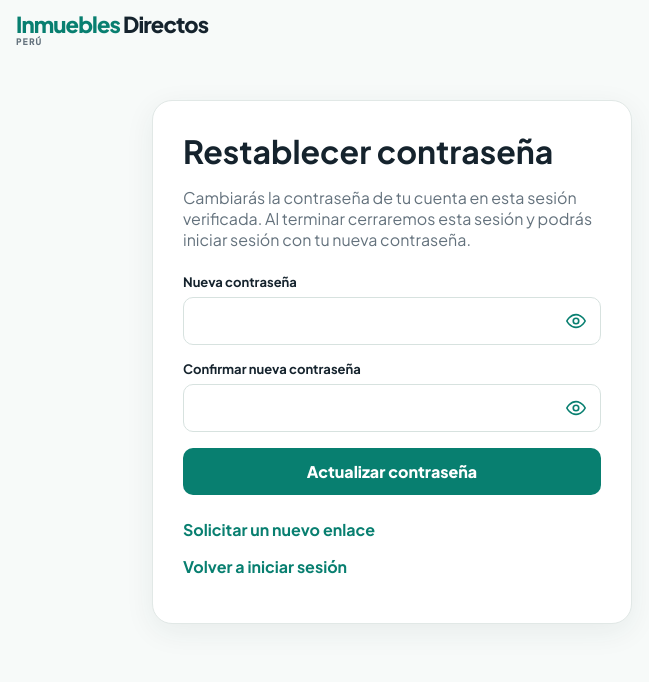
Test: verified self password update › safe update failure never signs out or navigates
In the password field labelled "Nueva contraseña": (392, 321) [183,297,601,345], type "fixture-password"
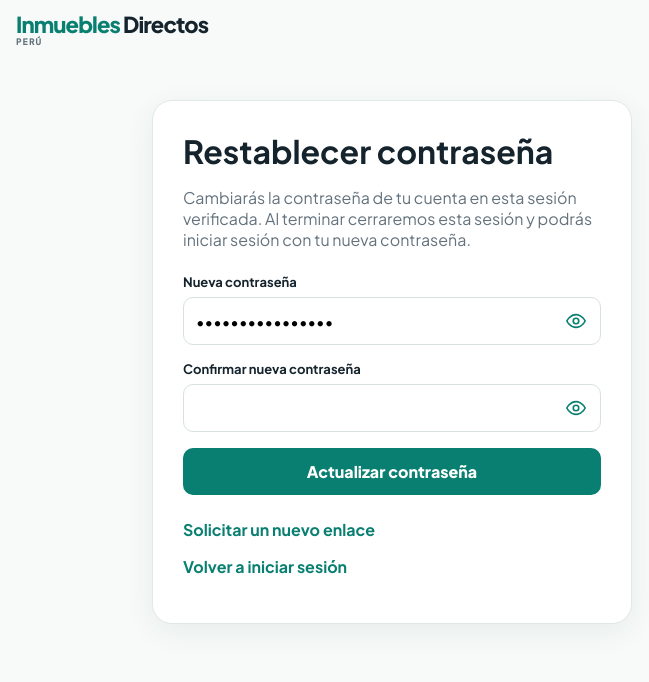
In the password field labelled "Confirmar nueva contraseña": (392, 408) [183,384,601,432], type "fixture-password"
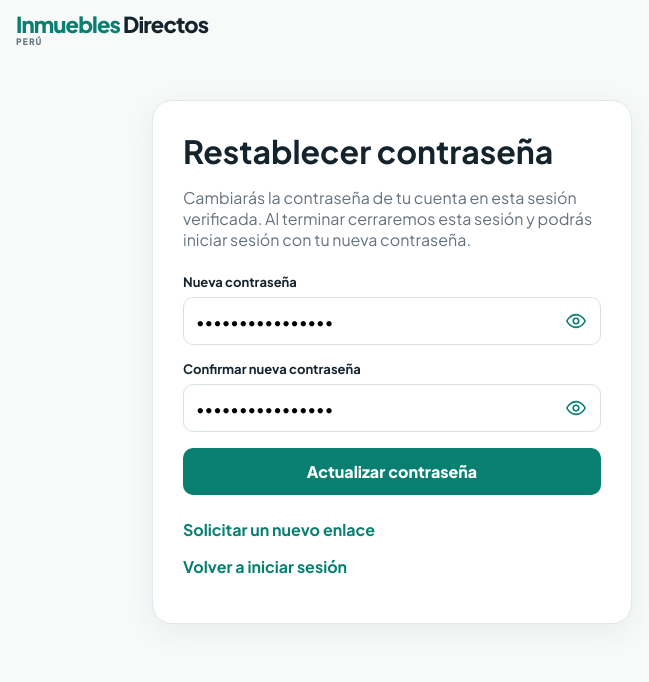
Submit the form labelled "Nueva contraseña", box [183,274,601,495]
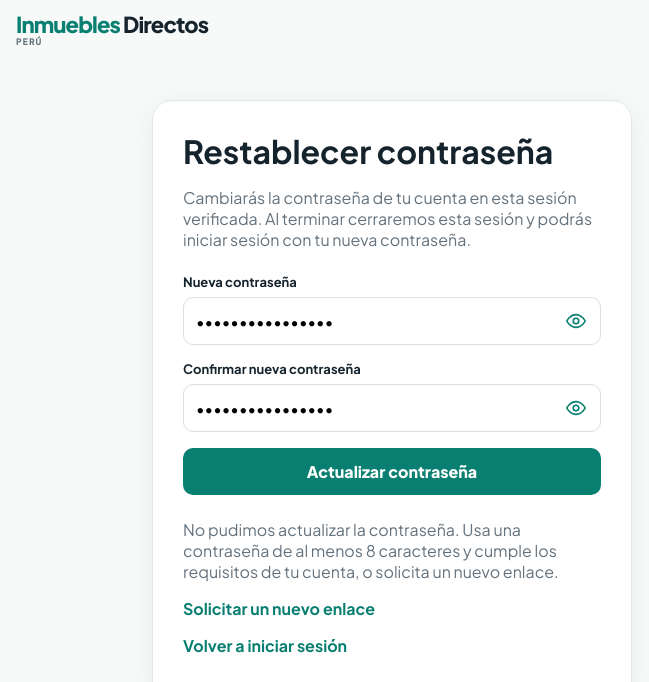
Now the message shows "No pudimos actualizar", box [183,519,559,582]
